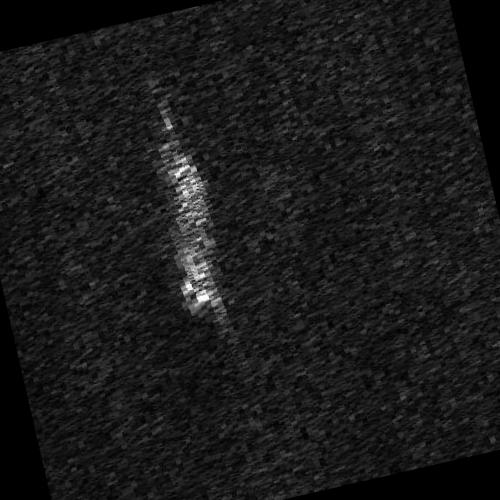ship: (163, 147, 215, 314)
